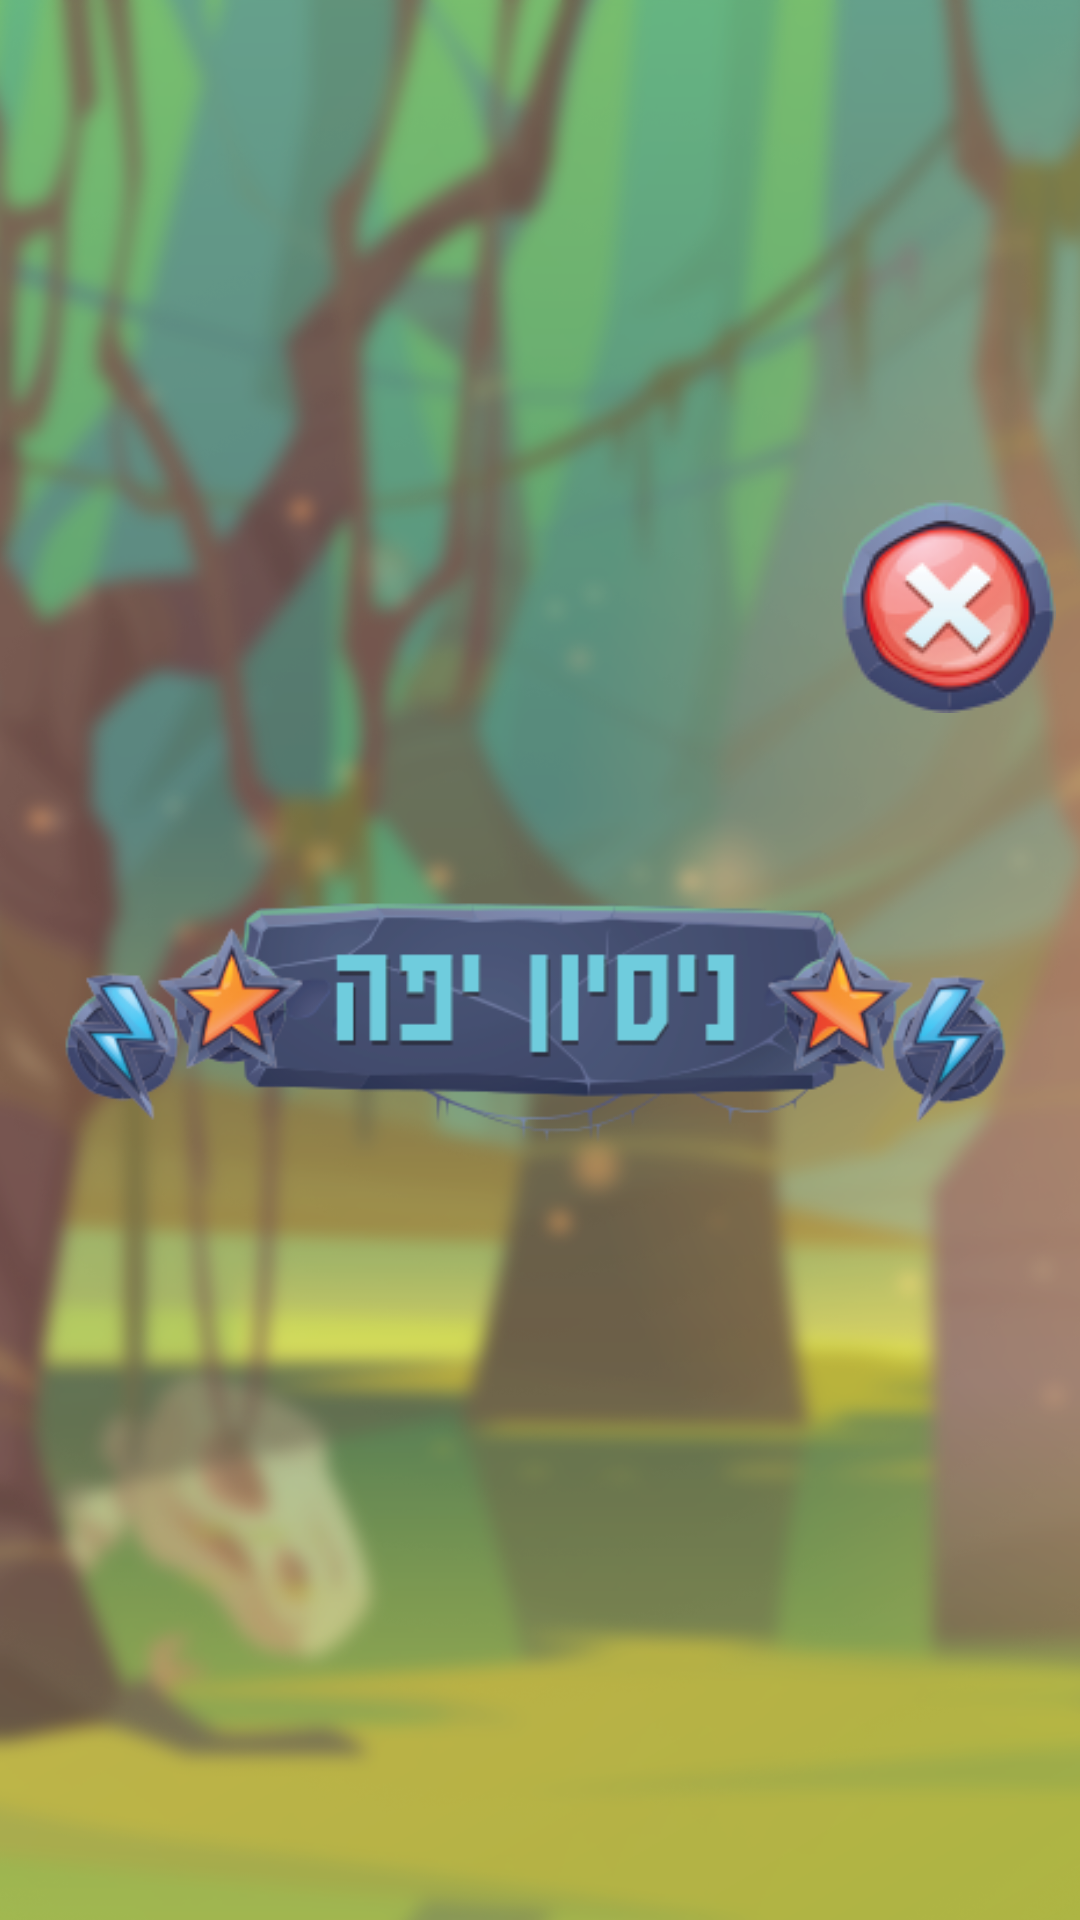

Icons on this 1080 × 1920 Android screen, each with the point to tap as point (x, y):
exit: point (950, 606)
